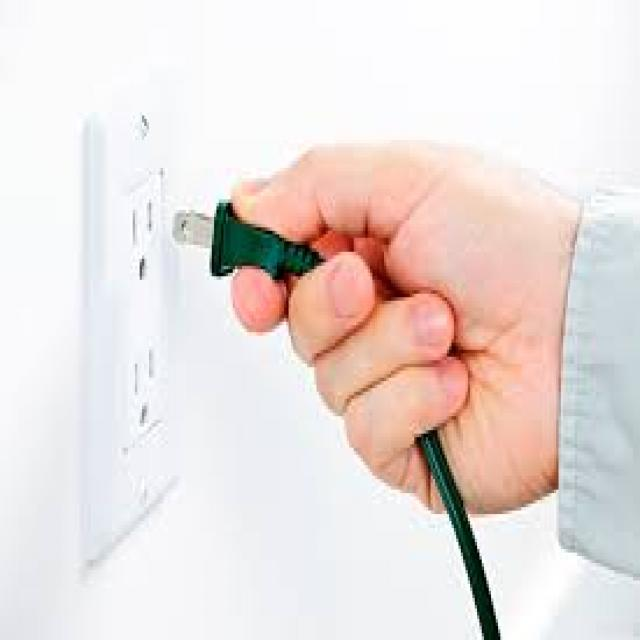typeb: (63, 73, 197, 608)
